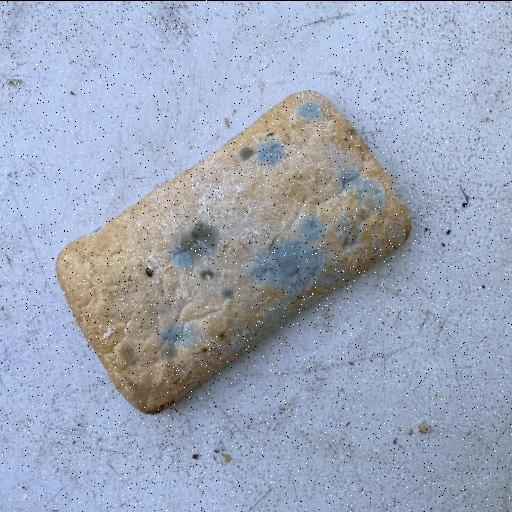Waste: (54, 88, 412, 416)
